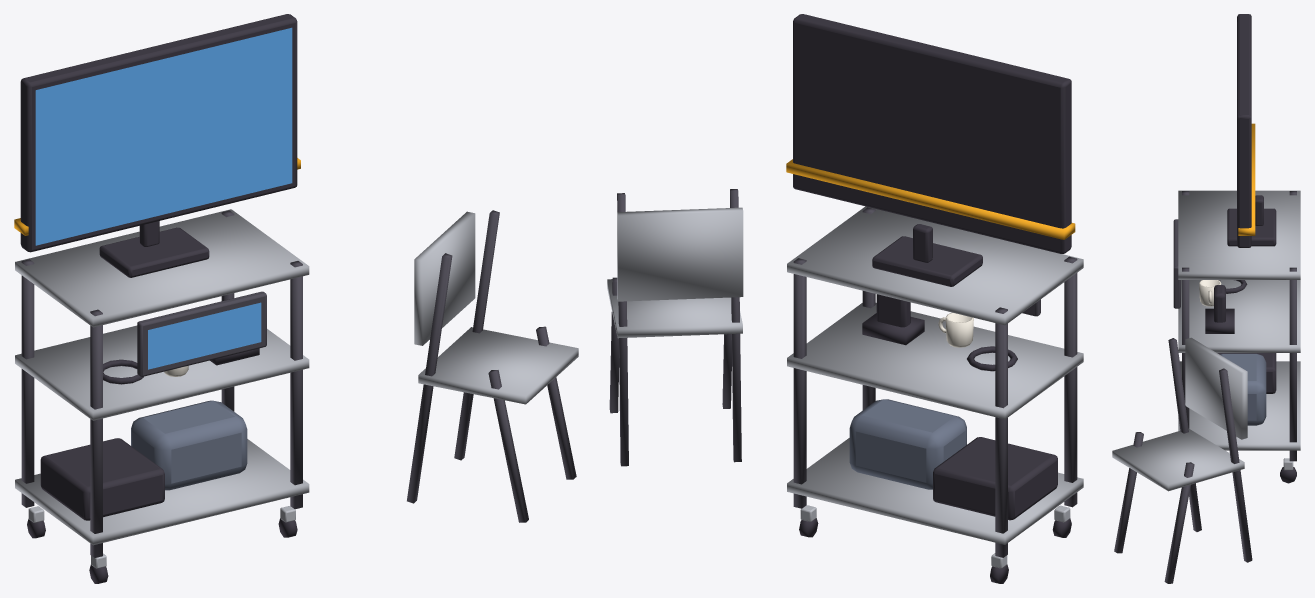
The model's file is noc_l1.glb.
3 renders of one model, left to right at view 1: azimuth 30°, elevation 25°; view 2: azimuth 150°, elevation 25°; view 3: azimuth 270°, elevation 25°, orthographic. The views are drawn at different scales.
Parts seen in each view (by area): view 1: noc_l1, noc_wall0_screen, noc_sign_screen; view 2: noc_l1; view 3: noc_l1.
Part boxes in pixels (bbox=[...]): noc_l1: bbox=[14, 14, 578, 583]; noc_wall0_screen: bbox=[35, 27, 292, 245]; noc_sign_screen: bbox=[148, 302, 261, 369]; noc_l1: bbox=[607, 14, 1083, 583]; noc_l1: bbox=[1112, 14, 1300, 583].
Size of the model in its own units: 1.88 by 1.72 by 0.7704.
